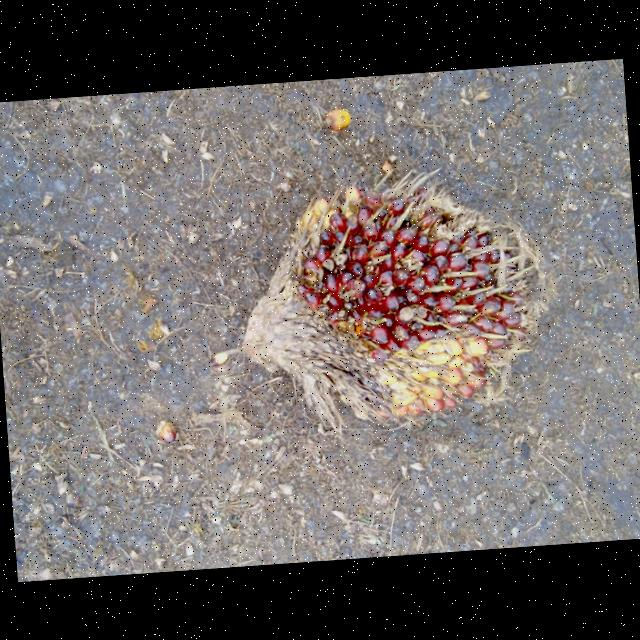Ripe: (241, 172, 544, 418)
